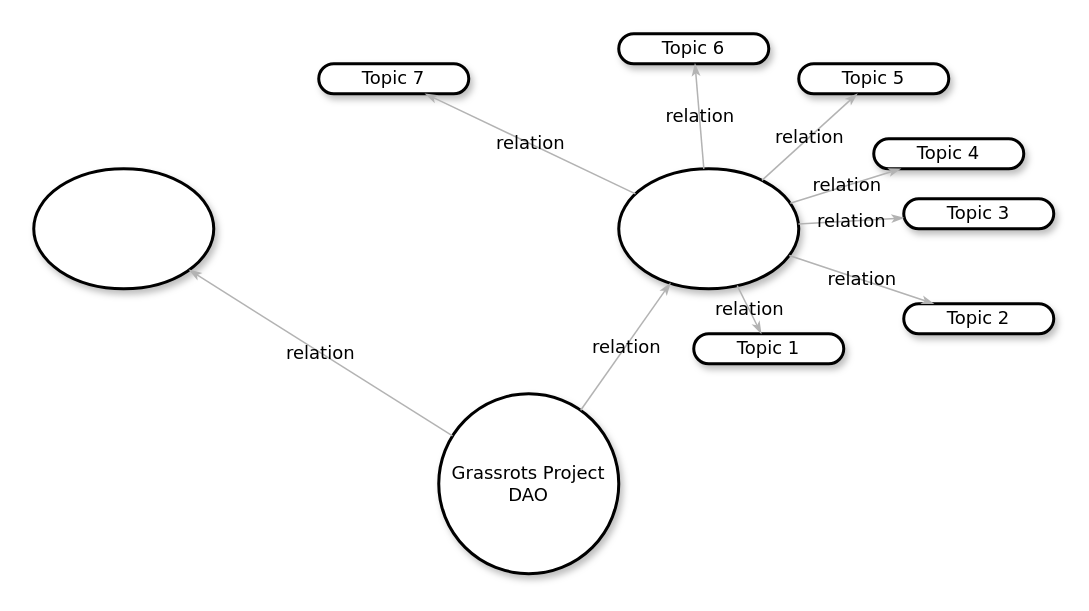
The diagram is 1089 pixels wide and 611 high, and some of its shapes have lost their labels. The shapes that lost their labels are listed below. From the top down, each one's centre as x and y in pixels, then its label:
the point at 125,230: 部门
the point at 709,230: Sub-node 2
